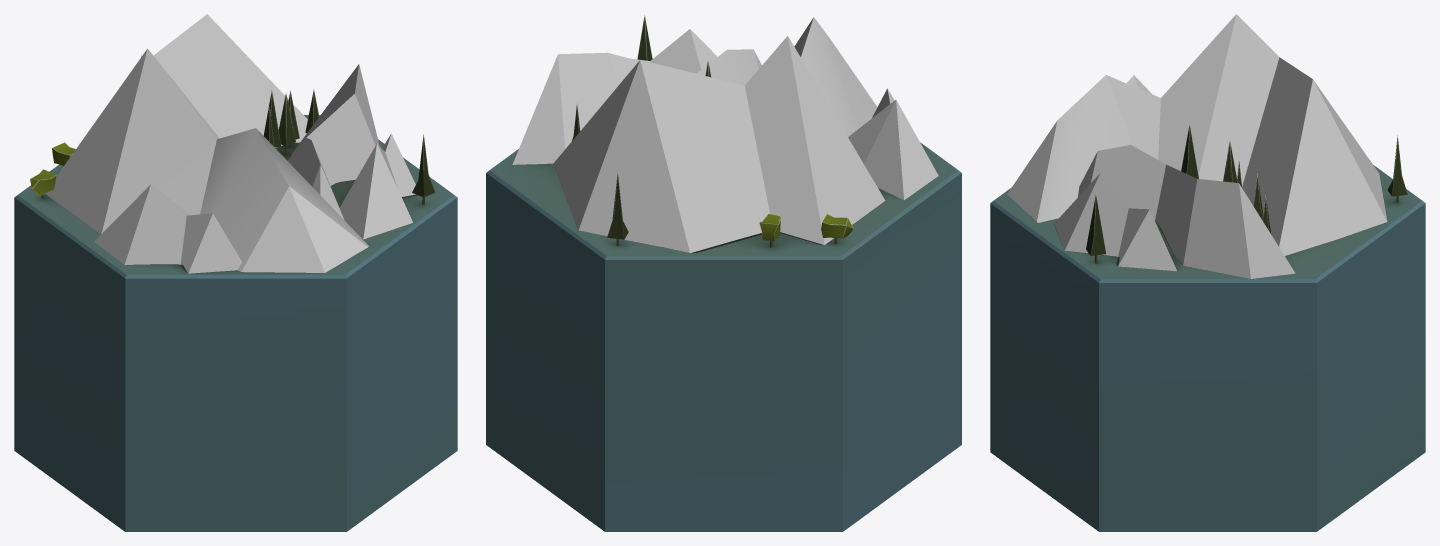
The model's file is Tile_Mountains.fbx.
3 renders of one model, left to right at view 1: azimuth 30°, elevation 25°; view 2: azimuth 150°, elevation 25°; view 3: azimuth 270°, elevation 25°, orthographic. The views are drawn at different scales.
Parts seen in each view (by area): view 1: Mountains; view 2: Mountains; view 3: Mountains.
Boxes of the visible parts, left/top/right/bottom form: Mountains: left=14, top=14, right=457, bottom=531; Mountains: left=486, top=15, right=961, bottom=531; Mountains: left=990, top=14, right=1425, bottom=531.
Bounding box in the file's own units: 1931 × 2276 × 2229.
